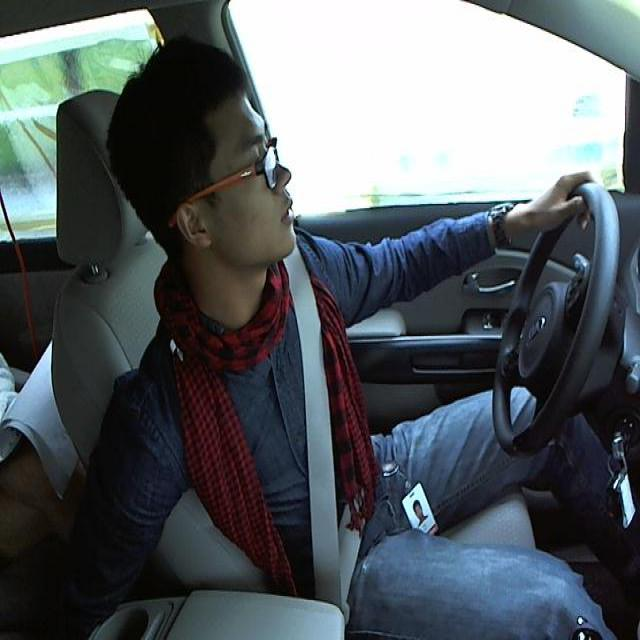seatbelt: (282, 278, 375, 610)
